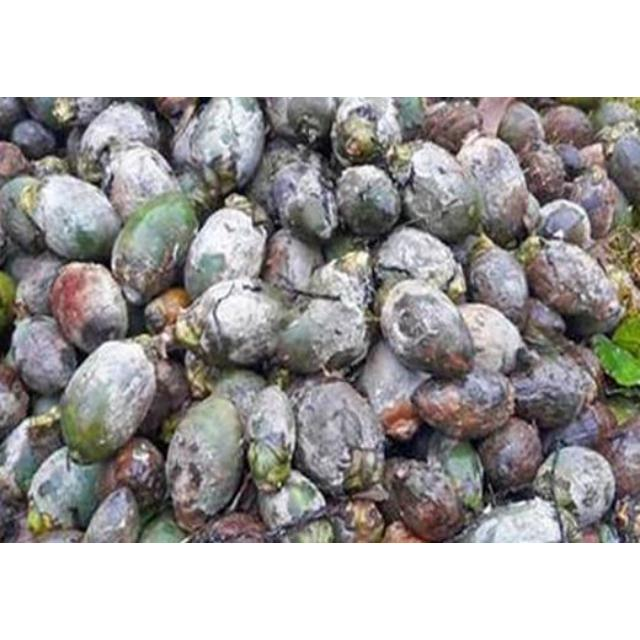damaged: (57, 339, 157, 465), (289, 377, 383, 498), (163, 394, 247, 526), (109, 191, 201, 303), (186, 278, 288, 370), (376, 287, 476, 377), (526, 238, 622, 330), (272, 290, 371, 378), (410, 364, 518, 442), (398, 143, 482, 243), (182, 207, 270, 301), (456, 138, 532, 245), (30, 174, 119, 262), (76, 102, 168, 186), (47, 260, 129, 354), (187, 97, 267, 193), (382, 456, 470, 542), (357, 342, 433, 441), (509, 348, 591, 432), (370, 225, 460, 298), (27, 448, 103, 534), (270, 152, 340, 244), (103, 146, 183, 220), (464, 236, 530, 324), (245, 386, 297, 494), (8, 315, 78, 395), (453, 303, 525, 379), (332, 164, 402, 240), (477, 418, 543, 494), (332, 98, 404, 166), (304, 250, 378, 316), (254, 470, 326, 536), (2, 413, 62, 491), (465, 499, 565, 543), (261, 228, 325, 296), (0, 176, 50, 256), (562, 168, 620, 236), (204, 366, 270, 422), (264, 97, 338, 143), (12, 256, 66, 318), (81, 488, 142, 542), (600, 422, 640, 498), (420, 101, 480, 151), (519, 142, 567, 202), (496, 100, 546, 154), (559, 338, 605, 394), (536, 198, 588, 244), (46, 97, 116, 131), (540, 104, 594, 148), (0, 364, 30, 440), (371, 272, 415, 322), (608, 134, 640, 202), (524, 298, 568, 344), (10, 119, 56, 160), (74, 130, 108, 184), (592, 120, 640, 158), (588, 100, 636, 136), (136, 512, 188, 542), (0, 468, 26, 522), (394, 97, 428, 135), (0, 140, 30, 180), (29, 154, 69, 180), (554, 143, 586, 175)
